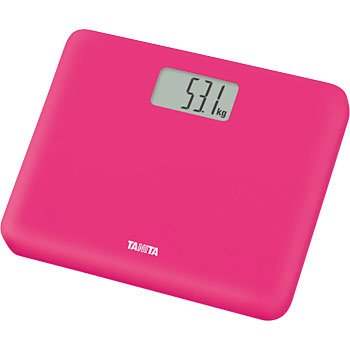LCD: (149, 66, 240, 123)
